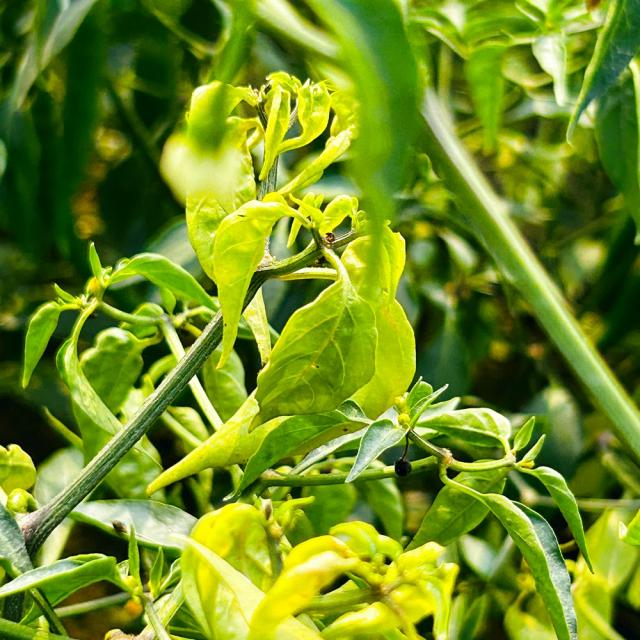Chilli_Leaf_Curl: (2, 68, 594, 638), (145, 221, 417, 497), (158, 70, 360, 369), (177, 496, 458, 638), (251, 223, 417, 428), (411, 470, 580, 638), (208, 192, 302, 369)
